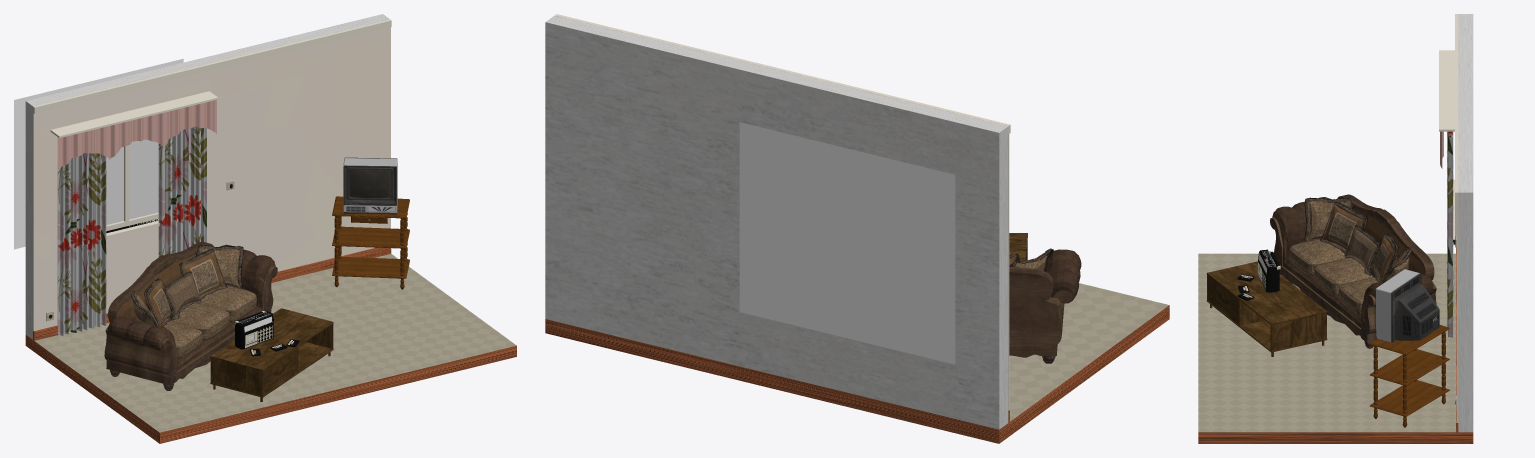
The model's file is kamer80.glb.
3 views of the same model, side by side, from view 1: azimuth 30°, elevation 25°; view 2: azimuth 150°, elevation 25°; view 3: azimuth 270°, elevation 25° (orthographic). The views are drawn at different scales.
Visible parts, largest first — view 1: d70_paneel.001, d70_vloer.001, sofa_03, d80_raam_gordijn_links, d80_raam_gordijn_rechts, Cube.003, d70_muur.001, d80_raam_volant, d80_raam_glas, d70_kroonlijst.001, television_02, d80_buiten_lucht (+8 smaller); view 2: d70_muur.001, d80_buiten_lucht, d70_vloer.001, sofa_03, d70_kroonlijst.001; view 3: d70_vloer.001, sofa_03, d70_muur.001, Cube.003, television_02, d80_raam_gordijn_rechts, BaseCenter, Basebot, d80_raam_gordijnkast, Cube.002, d70_kroonlijst.001, BaseTop (+4 smaller).
Boxes of the visible parts, box(x1,y1,x2,y2) form: d70_paneel.001: box(33, 27, 390, 330); d70_vloer.001: box(25, 254, 516, 443); sofa_03: box(104, 241, 277, 390); d80_raam_gordijn_links: box(57, 153, 106, 336); d80_raam_gordijn_rechts: box(158, 126, 206, 257); Cube.003: box(210, 308, 333, 401); d70_muur.001: box(25, 14, 389, 339); d80_raam_volant: box(57, 100, 216, 171); d80_raam_glas: box(106, 139, 158, 224); d70_kroonlijst.001: box(33, 19, 391, 113); television_02: box(343, 157, 397, 214); d80_buiten_lucht: box(14, 58, 183, 249); d70_muur.001: box(545, 15, 1008, 429); d80_buiten_lucht: box(739, 122, 955, 364); d70_vloer.001: box(545, 283, 1169, 443); sofa_03: box(1009, 248, 1081, 363); d70_kroonlijst.001: box(555, 14, 1010, 134); d70_vloer.001: box(1198, 253, 1473, 443); sofa_03: box(1270, 194, 1436, 348); d70_muur.001: box(1458, 14, 1473, 432); Cube.003: box(1206, 261, 1327, 356); television_02: box(1375, 269, 1439, 342); d80_raam_gordijn_rechts: box(1447, 131, 1453, 337); BaseCenter: box(1370, 349, 1449, 385); Basebot: box(1370, 380, 1449, 416); d80_raam_gordijnkast: box(1439, 50, 1454, 131); Cube.002: box(1208, 275, 1238, 324); d70_kroonlijst.001: box(1455, 14, 1458, 199); BaseTop: box(1370, 325, 1449, 354).
Bounding box in the file's own units: 4 × 2.62 × 3.05.
41 materials, 40 textured.
